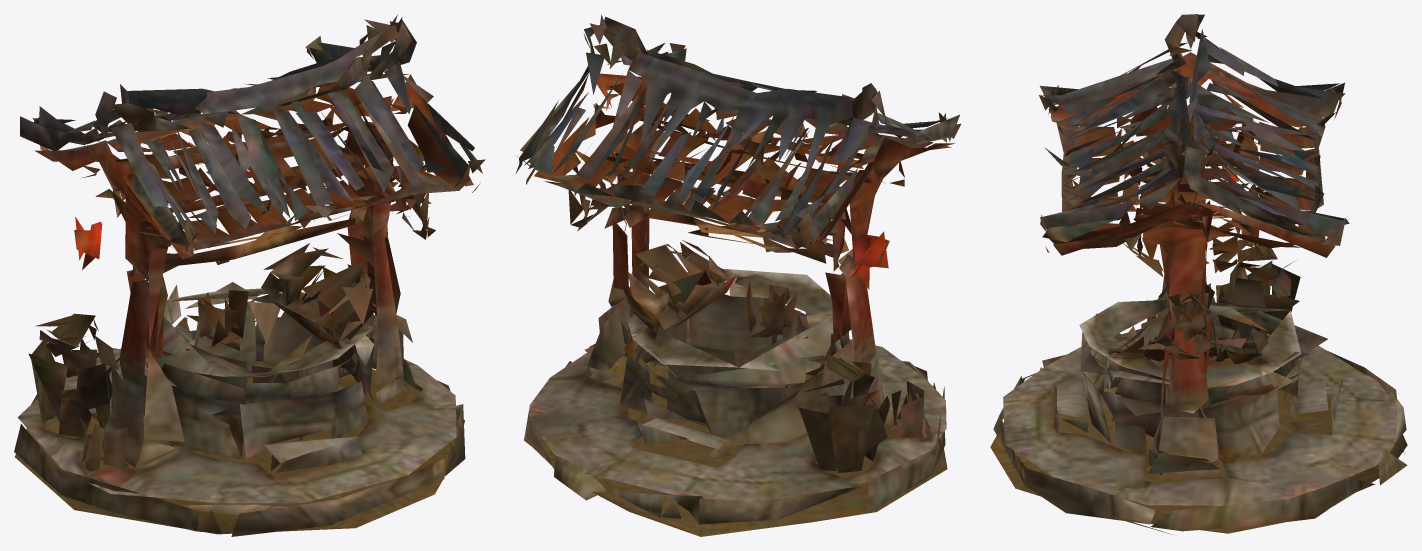
The model's file is poco_lod2.glb.
The picture shows the model from 3 angles, left to right: view 1: azimuth 30°, elevation 25°; view 2: azimuth 150°, elevation 25°; view 3: azimuth 270°, elevation 25°; orthographic projection. The views are drawn at different scales.
Visible parts, largest first — view 1: poco; view 2: poco; view 3: poco.
Part boxes in pixels (x1,y1,x2,y2): poco: (14, 14, 485, 536); poco: (515, 14, 960, 536); poco: (990, 14, 1407, 534).
Size of the model in its own units: 2.57 by 2.56 by 2.51.
Materials: 1 (1 with a texture image).
